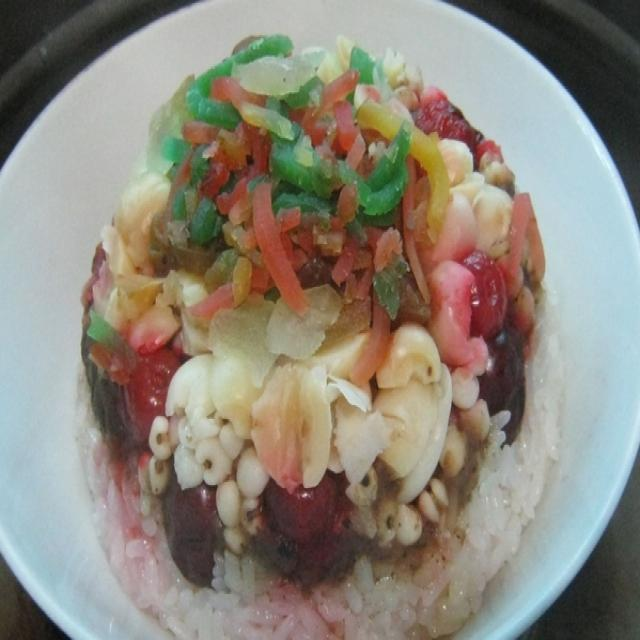米饭主食: (21, 15, 604, 637)
